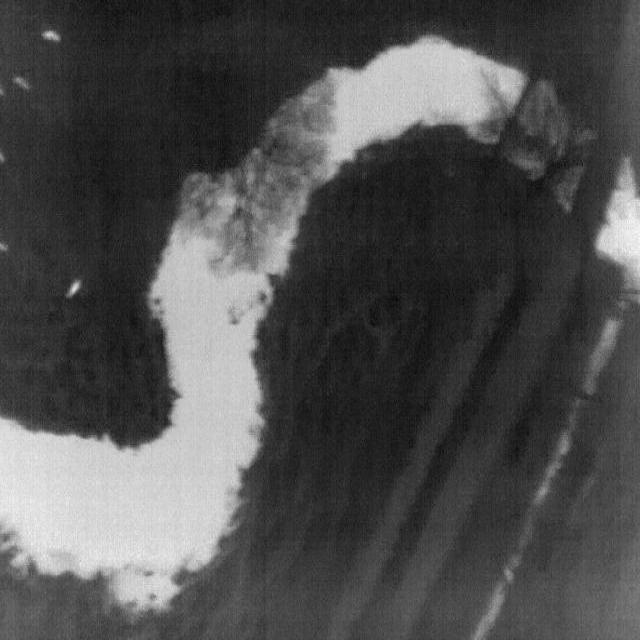deer: (12, 75, 31, 92), (65, 280, 82, 298), (41, 29, 62, 43), (0, 144, 5, 162), (0, 241, 8, 252), (0, 82, 6, 96)
